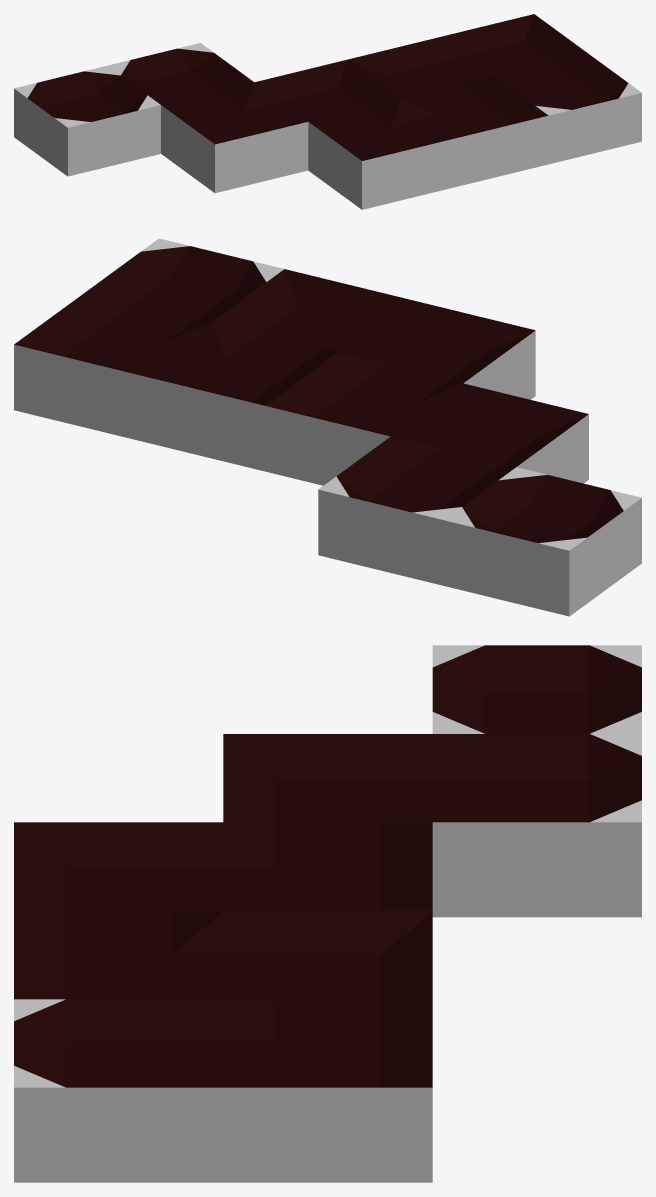
File: 53s_path.obj
3 views of the same model, one above another, from view 1: azimuth 30°, elevation 25°; view 2: azimuth 150°, elevation 25°; view 3: azimuth 270°, elevation 25° (orthographic). The views are drawn at different scales.
Visible parts, largest first — view 1: hole.0.4_Cube.106, corner.2.2_corner.530, corner.1.3_corner.529, corner.3.2_corner.532, ending.4.2_ending.210, corner.4.3_corner.534, corner.2.3_corner.531, ending.1.4_ending.209, corner.3.3_corner.533; view 2: hole.0.4_Cube.106, corner.4.3_corner.534, ending.1.4_ending.209, corner.3.3_corner.533, corner.2.3_corner.531, corner.2.2_corner.530, corner.1.3_corner.529, corner.3.2_corner.532, ending.4.2_ending.210; view 3: ending.4.2_ending.210, ending.1.4_ending.209, corner.4.3_corner.534, corner.3.3_corner.533, corner.2.2_corner.530, corner.1.3_corner.529, hole.0.4_Cube.106, corner.3.2_corner.532, corner.2.3_corner.531.
Part boxes in pixels (bbox=[...]): hole.0.4_Cube.106: bbox=[14, 65, 160, 176]; corner.2.2_corner.530: bbox=[308, 99, 455, 209]; corner.1.3_corner.529: bbox=[161, 82, 308, 193]; corner.3.2_corner.532: bbox=[402, 76, 548, 186]; ending.4.2_ending.210: bbox=[495, 53, 641, 164]; corner.4.3_corner.534: bbox=[441, 14, 587, 82]; corner.2.3_corner.531: bbox=[254, 59, 400, 128]; ending.1.4_ending.209: bbox=[108, 43, 254, 111]; corner.3.3_corner.533: bbox=[348, 37, 493, 105]; hole.0.4_Cube.106: bbox=[444, 467, 641, 616]; corner.4.3_corner.534: bbox=[14, 291, 211, 440]; ending.1.4_ending.209: bbox=[318, 436, 515, 585]; corner.3.3_corner.533: bbox=[139, 322, 336, 471]; corner.2.3_corner.531: bbox=[265, 353, 462, 485]; corner.2.2_corner.530: bbox=[338, 299, 535, 399]; corner.1.3_corner.529: bbox=[391, 383, 588, 483]; corner.3.2_corner.532: bbox=[212, 269, 409, 361]; ending.4.2_ending.210: bbox=[87, 238, 283, 330]; ending.4.2_ending.210: bbox=[14, 999, 223, 1182]; ending.1.4_ending.209: bbox=[432, 734, 641, 917]; corner.4.3_corner.534: bbox=[223, 999, 432, 1182]; corner.3.3_corner.533: bbox=[223, 910, 432, 1022]; corner.2.2_corner.530: bbox=[14, 822, 223, 934]; corner.1.3_corner.529: bbox=[223, 734, 432, 845]; hole.0.4_Cube.106: bbox=[432, 645, 641, 733]; corner.3.2_corner.532: bbox=[14, 911, 223, 999]; corner.2.3_corner.531: bbox=[223, 822, 432, 910].
Size of the model in its own units: 10 by 1 by 6.
